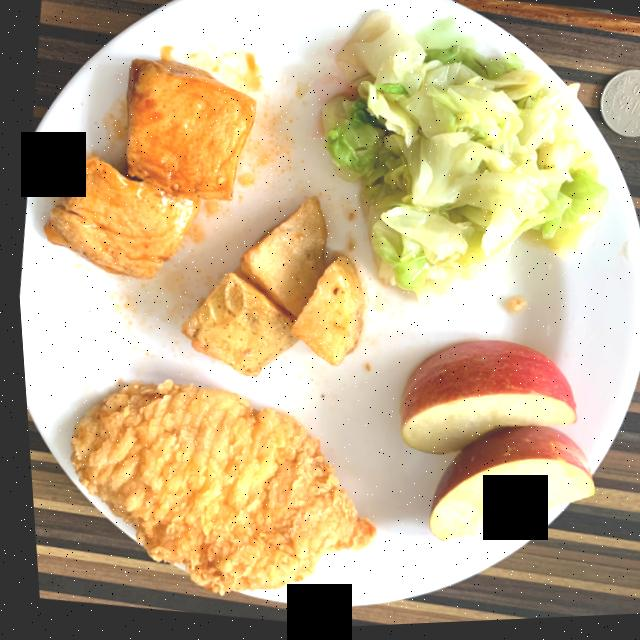apple -sliced-: (395, 344, 588, 544)
cabbage: (320, 15, 604, 309)
coin: (599, 76, 640, 143)
creamy tofu: (41, 61, 254, 280)
fried chicken cutlet: (65, 382, 369, 596)
fried potato: (177, 199, 362, 378)
